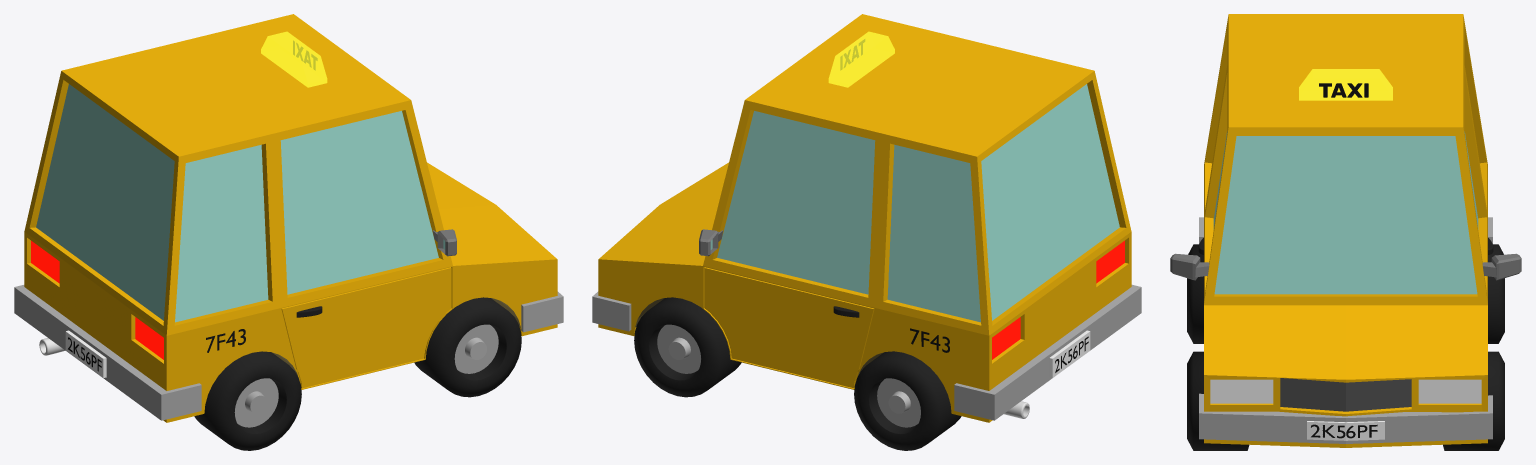
File: TaxiLowPoly.fbx
The picture shows the model from 3 angles, left to right: view 1: azimuth 30°, elevation 25°; view 2: azimuth 150°, elevation 25°; view 3: azimuth 270°, elevation 25°; orthographic projection.
Parts seen in each view (by area): view 1: CarrozzeriaTaxi, Ruota4, Ruota2, ParaDietro, InsegnaTaxi, ParaDavanti; view 2: CarrozzeriaTaxi, Ruota3, Ruota1, ParaDietro, InsegnaTaxi, ParaDavanti; view 3: CarrozzeriaTaxi, ParaDavanti, InsegnaTaxi, Ruota1, Ruota2, Specchietto, Ruota3, Ruota4, TaxiText, TagaAnt.
Boxes of the visible parts, box(x1,y1,x2,y2) form: CarrozzeriaTaxi: box(24, 14, 557, 422); Ruota4: box(194, 351, 301, 450); Ruota2: box(414, 297, 521, 397); ParaDietro: box(14, 285, 201, 420); InsegnaTaxi: box(261, 31, 327, 87); ParaDavanti: box(521, 291, 563, 332); CarrozzeriaTaxi: box(598, 14, 1131, 422); Ruota3: box(854, 351, 961, 450); Ruota1: box(634, 297, 741, 397); ParaDietro: box(954, 284, 1141, 420); InsegnaTaxi: box(828, 31, 894, 87); ParaDavanti: box(592, 291, 631, 331); CarrozzeriaTaxi: box(1204, 14, 1487, 447); ParaDavanti: box(1199, 393, 1492, 443); InsegnaTaxi: box(1299, 69, 1392, 100); Ruota1: box(1443, 351, 1504, 450); Ruota2: box(1187, 351, 1249, 450); Specchietto: box(1170, 253, 1521, 280); Ruota3: box(1488, 244, 1504, 343); Ruota4: box(1187, 244, 1203, 343); TaxiText: box(1319, 83, 1368, 97); TagaAnt: box(1311, 424, 1377, 438).
Size of the model in its own units: 339 by 248 by 247.
